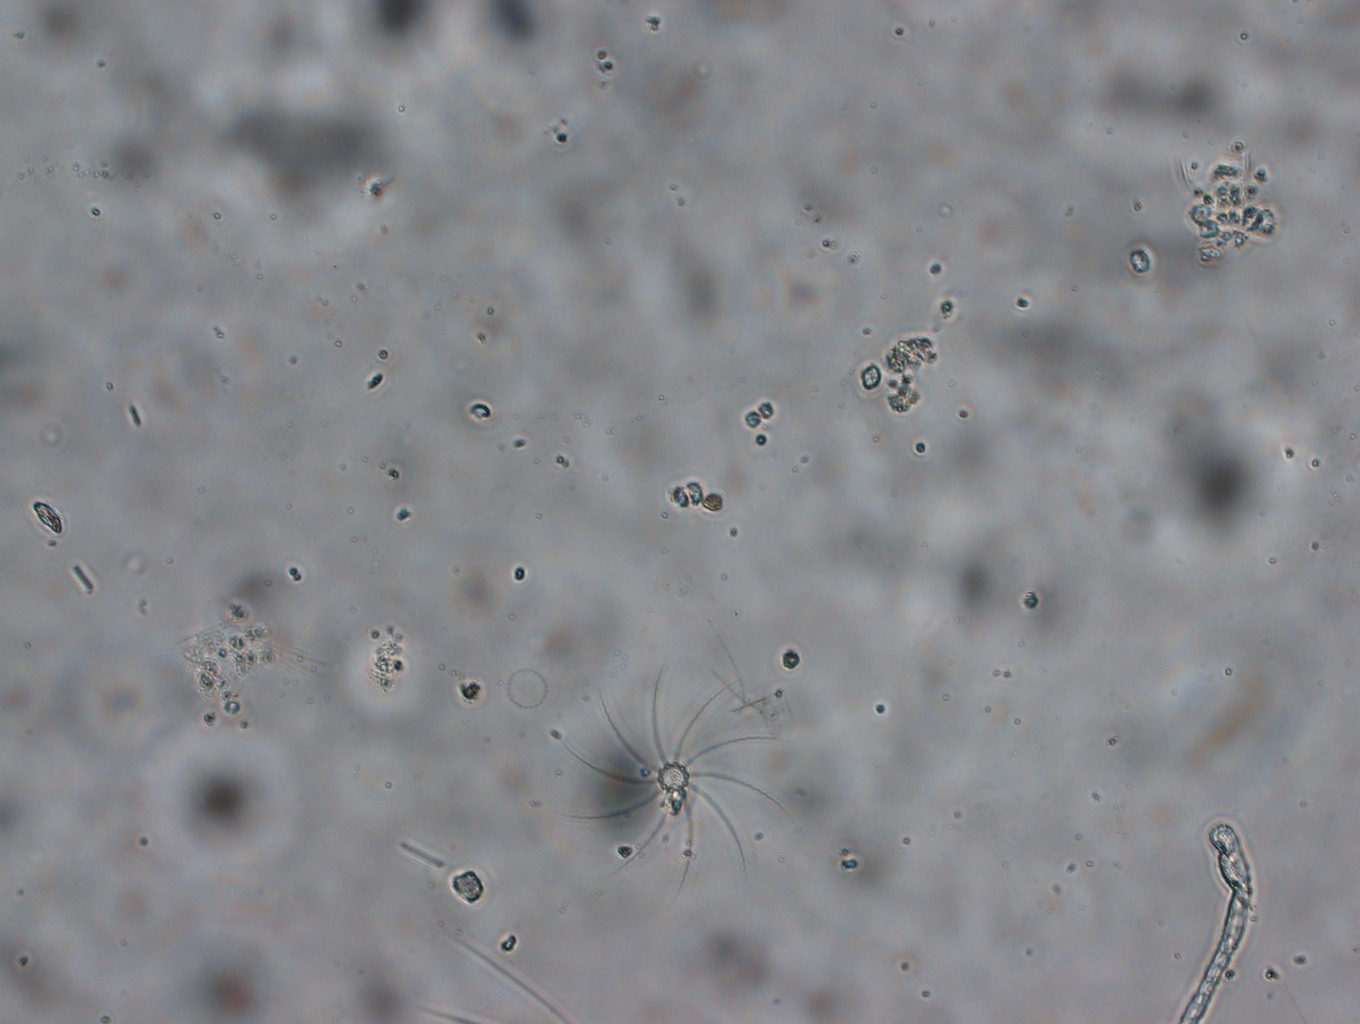bacteriastrum: (559, 662, 791, 891)
